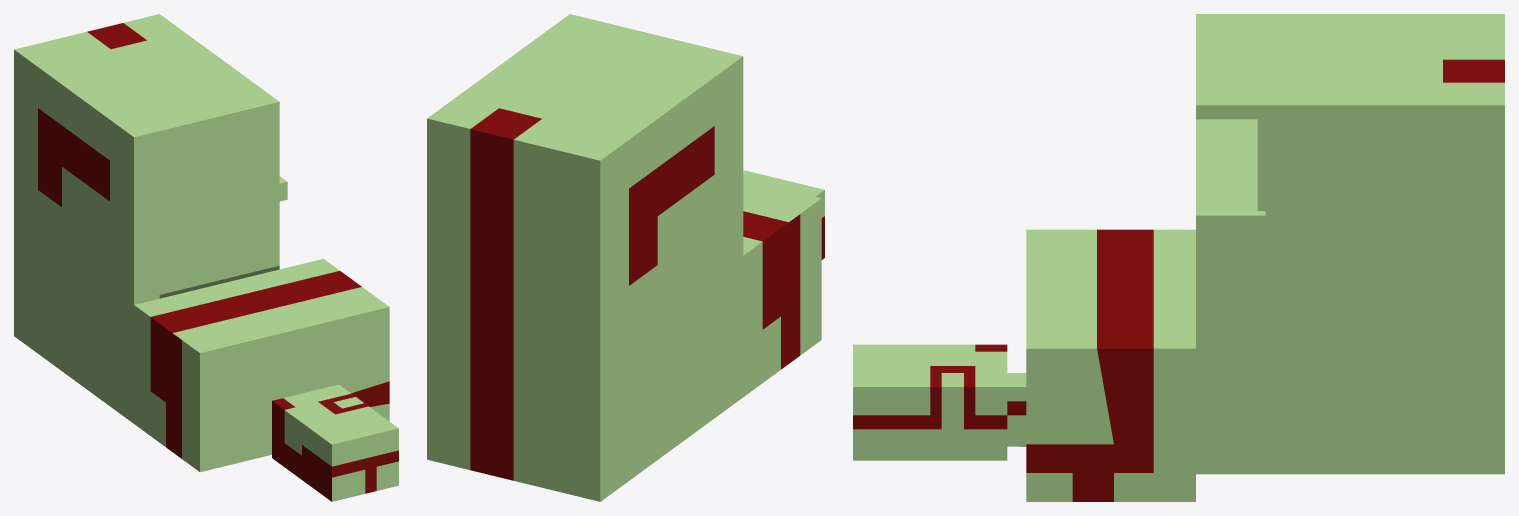
Rendered from level02.35a60911.obj.
3 renders of one model, left to right at view 1: azimuth 30°, elevation 25°; view 2: azimuth 150°, elevation 25°; view 3: azimuth 270°, elevation 25°, orthographic. The views are drawn at different scales.
Parts seen in each view (by area): view 1: level, road_wall; view 2: level, road_wall; view 3: level, road_wall.
Part boxes in pixels (x1=…): level: x1=14, y1=14, x2=398, y2=501; road_wall: x1=38, y1=23, x2=398, y2=501; level: x1=427, y1=14, x2=824, y2=501; road_wall: x1=470, y1=108, x2=824, y2=480; level: x1=853, y1=14, x2=1504, y2=501; road_wall: x1=853, y1=59, x2=1504, y2=501.
Bounding box in the file's own units: 141 × 208 × 326.
